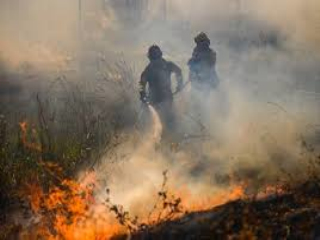fire: (30, 174, 130, 239)
